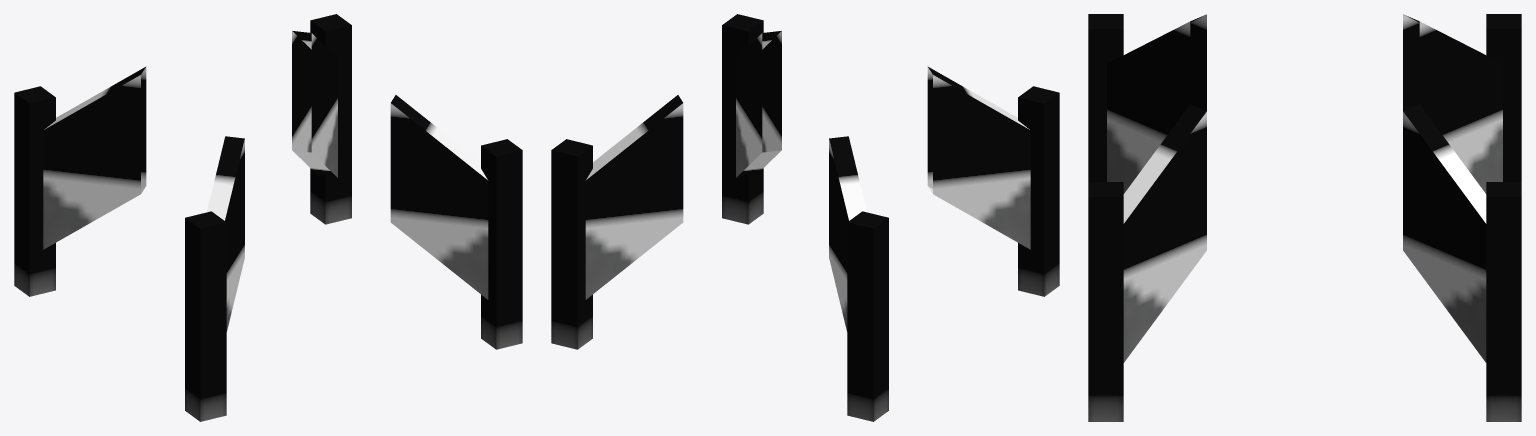
Rendered from rocket_fins.obj.
The picture shows the model from 3 angles, left to right: view 1: azimuth 30°, elevation 25°; view 2: azimuth 150°, elevation 25°; view 3: azimuth 270°, elevation 25°; orthographic projection. The views are drawn at different scales.
Visible parts, largest first — view 1: RocketFins_Cube.014; view 2: RocketFins_Cube.014; view 3: RocketFins_Cube.014.
Boxes of the visible parts, x1=… form: RocketFins_Cube.014: x1=14, y1=14, x2=522, y2=421; RocketFins_Cube.014: x1=551, y1=14, x2=1059, y2=421; RocketFins_Cube.014: x1=1088, y1=14, x2=1521, y2=421.
Size of the model in its own units: 2.29 by 1.56 by 2.29.
